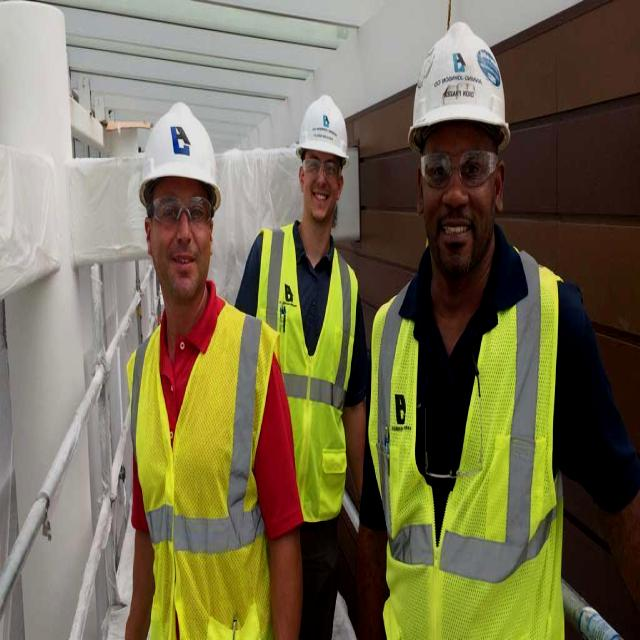face_nomask: (405, 118, 507, 273), (146, 181, 213, 304), (293, 150, 340, 226)
glasses: (418, 148, 500, 188), (148, 190, 216, 230), (300, 153, 343, 184)
head_helmet: (408, 6, 513, 136), (134, 76, 222, 204), (290, 70, 354, 168)
person: (370, 3, 588, 640), (105, 77, 256, 640), (236, 57, 376, 533)
vest: (374, 259, 570, 640), (124, 313, 292, 638), (249, 236, 360, 502)
